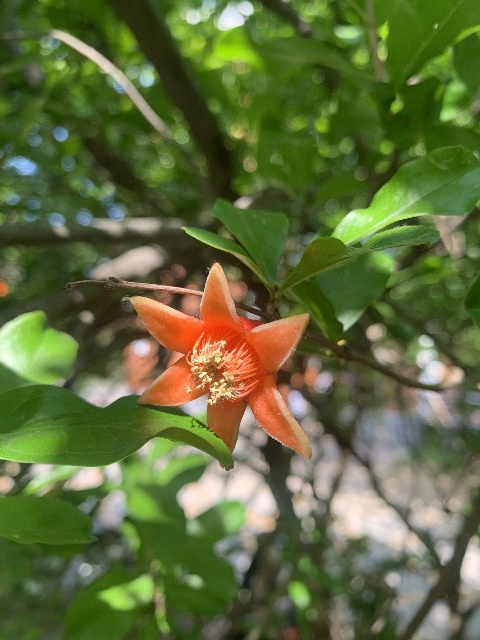flower: (125, 262, 313, 459)
